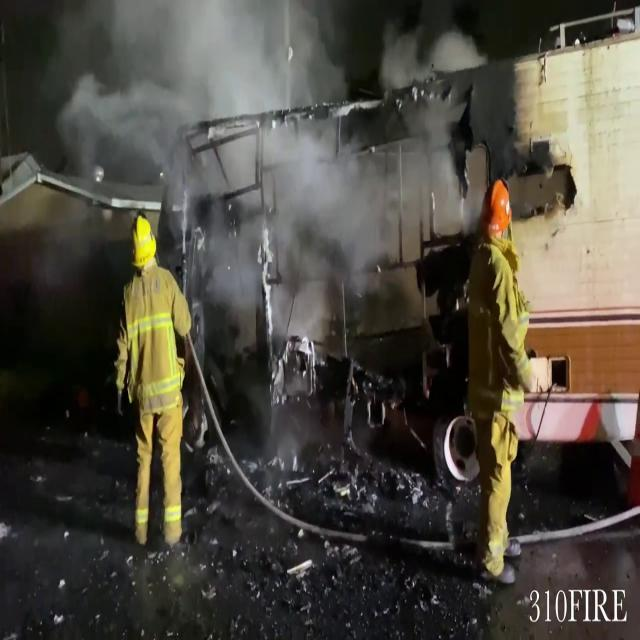Smoke: (66, 0, 477, 320)
